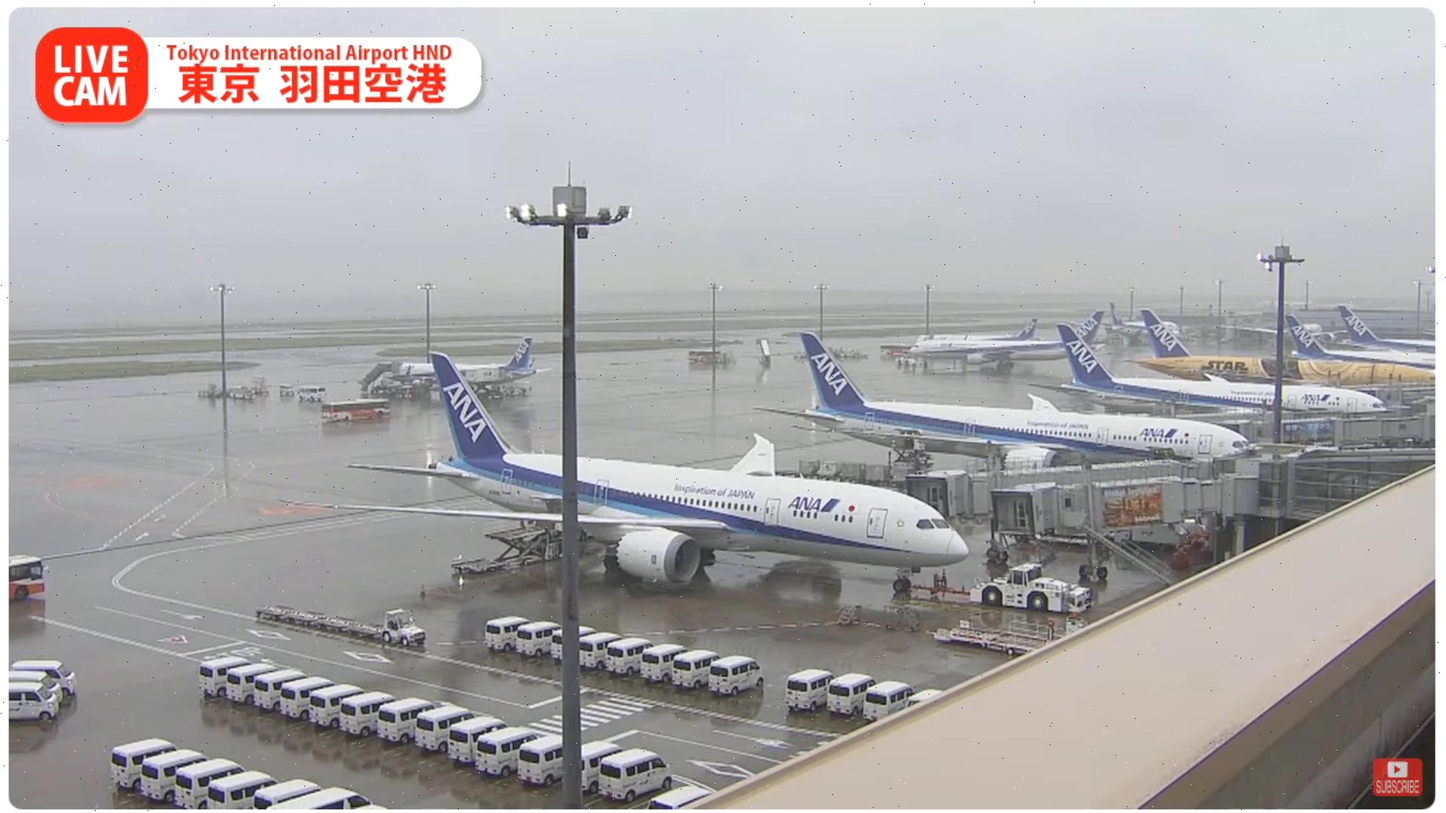APS: (968, 562, 1094, 614)
Aerobridge: (904, 455, 1210, 520), (991, 474, 1261, 535)
Airplane: (270, 351, 970, 592)
Dolly: (258, 604, 384, 639)
JCPL: (924, 615, 1087, 656), (447, 520, 563, 573)
Tractor: (383, 607, 425, 649)
Window: (1292, 458, 1433, 516)
